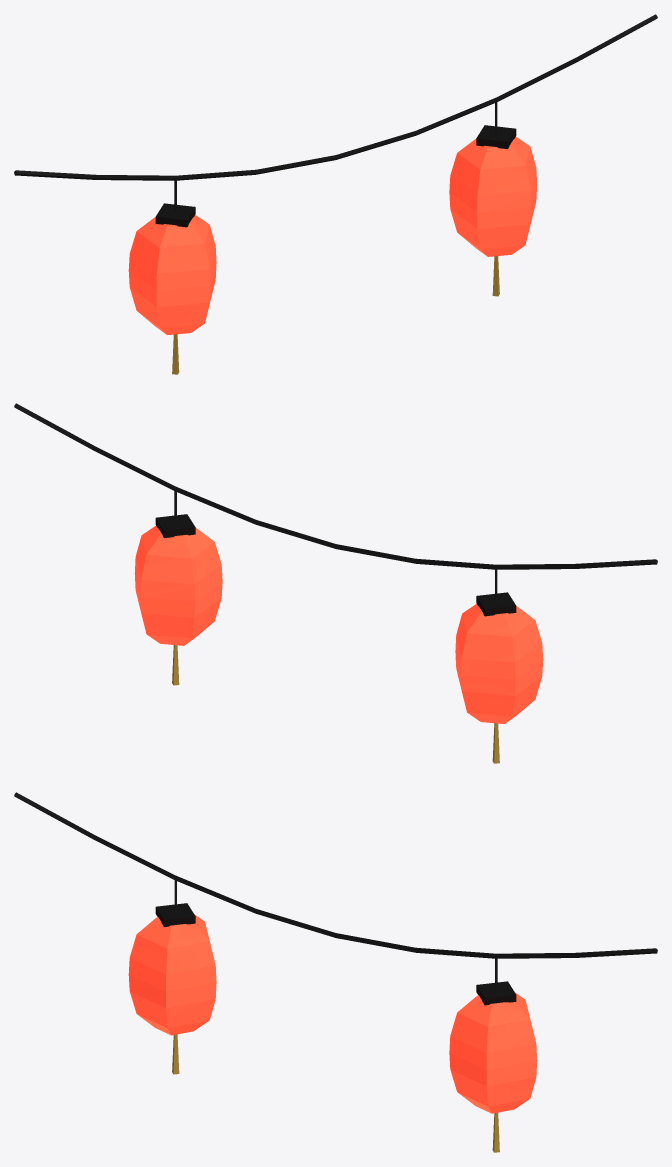
Rendered from tp_lanterns_lo-CJnf8Yy3.glb.
3 renders of one model, top to bottom at view 1: azimuth 30°, elevation 25°; view 2: azimuth 150°, elevation 25°; view 3: azimuth 330°, elevation 25°, orthographic.
Bounding box in the file's own units: 3.21 × 1.15 × 0.3879.
